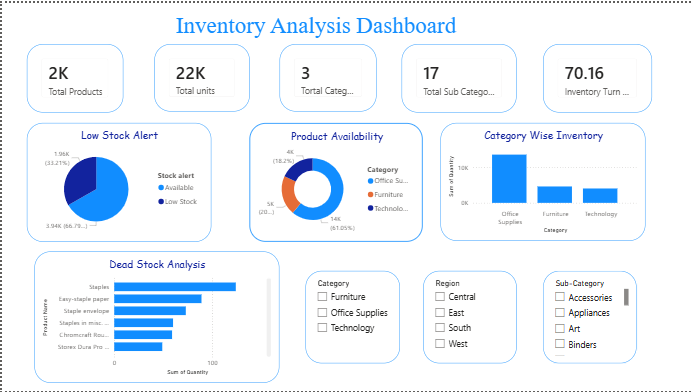

What the dashboard file says about the page in this screenshot:
{"tool":"powerbi","page":{"name":"Inventory DB","canvas":[1280,720],"ordinal":3},"visuals":[{"type":"textbox","box":[307.1,11.4,547.1,64.3],"z":0},{"type":"cardVisual","fields":{"Data":["Measure.Total Products"]},"box":[46.7,75,178.3,126.7],"z":1000},{"type":"cardVisual","fields":{"Data":["Measure.Total units"]},"box":[281.7,75,176.7,125],"z":2000},{"type":"pieChart","title":"Low Stock Alert","fields":{"Category":["Sheet1.Stock alert"],"Y":["CountNonNull(Sheet1.Product Name)"]},"box":[46.7,221.7,341.7,220],"z":3000},{"type":"donutChart","title":"Product Availability","fields":{"Category":["Sheet1.Category"],"Y":["Sum(Sheet1.Quantity)"]},"box":[458.3,221.7,321.7,220],"z":4000},{"type":"clusteredColumnChart","title":"Category Wise Inventory","fields":{"Category":["Sheet1.Category"],"Y":["Sum(Sheet1.Quantity)"]},"box":[811.7,221.7,380,218.3],"z":5000},{"type":"clusteredBarChart","title":"Dead Stock Analysis ","fields":{"Category":["Sheet1.Product Name"],"Y":["Sum(Sheet1.Quantity)"]},"box":[60,460,453.3,243.3],"z":6000},{"type":"slicer","fields":{"Values":["Sheet1.Category"]},"box":[561.7,496.7,175,171.7],"z":7000},{"type":"slicer","fields":{"Values":["Sheet1.Sub-Category"]},"box":[1001.7,496.7,173.3,171.7],"z":8000},{"type":"slicer","fields":{"Values":["Sheet1.Region"]},"box":[780,496.7,173.3,171.7],"z":9000},{"type":"cardVisual","fields":{"Data":["Measure.Tortal Categories"]},"box":[513.3,76.7,180,125],"z":10000},{"type":"cardVisual","fields":{"Data":["Measure.Total Sub Categories"]},"box":[740,75,213.3,126.7],"z":11000},{"type":"cardVisual","fields":{"Data":["Measure.Inventory Turn Over"]},"box":[1001.7,76.7,201.7,126.7],"z":12000}]}

Visuals, with their boxes in screenshot pixels (x1, y1, x2, y2), scaled from the page's 1280x720 canvas onto the 693x392 screenshot:
textbox: 166,6,462,41
cardVisual - Measure.Total Products: 25,41,122,110
cardVisual - Measure.Total units: 153,41,248,109
"Low Stock Alert" pieChart: 25,121,210,240
"Product Availability" donutChart: 248,121,422,240
"Category Wise Inventory" clusteredColumnChart: 439,121,645,240
"Dead Stock Analysis " clusteredBarChart: 32,250,278,383
slicer - Sheet1.Category: 304,270,399,364
slicer - Sheet1.Sub-Category: 542,270,636,364
slicer - Sheet1.Region: 422,270,516,364
cardVisual - Measure.Tortal Categories: 278,42,375,110
cardVisual - Measure.Total Sub Categories: 401,41,516,110
cardVisual - Measure.Inventory Turn Over: 542,42,652,111
